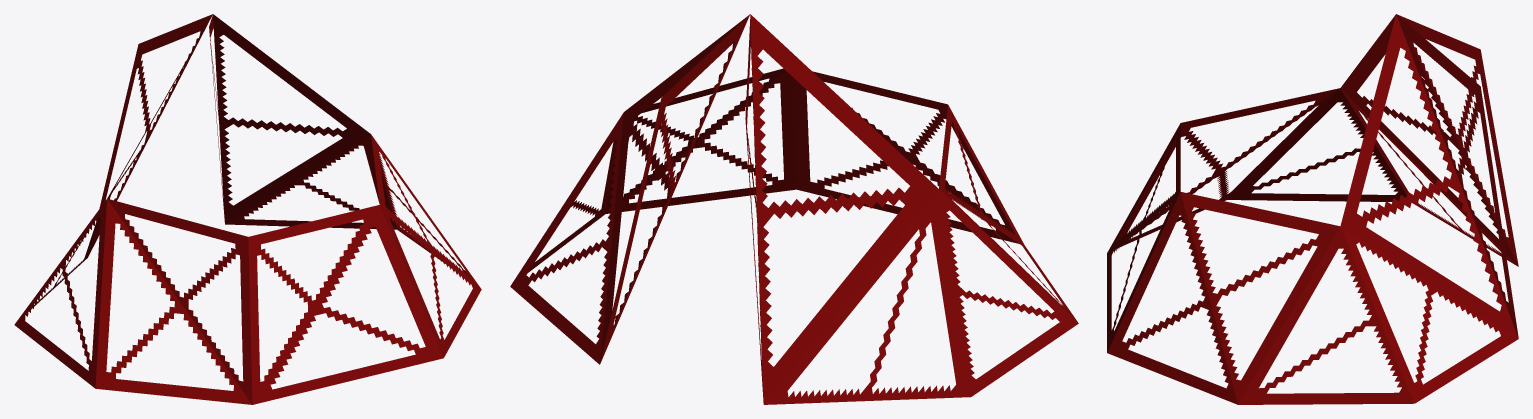
File: red_tower_0.obj
The picture shows the model from 3 angles, left to right: view 1: azimuth 30°, elevation 25°; view 2: azimuth 150°, elevation 25°; view 3: azimuth 270°, elevation 25°; orthographic projection. The views are drawn at different scales.
Parts seen in each view (by area): view 1: obj_tex_109, obj_tex_132, obj_tex_156; view 2: obj_tex_109, obj_tex_156, obj_tex_132; view 3: obj_tex_109, obj_tex_132, obj_tex_156.
Boxes of the visible parts, left/top/right/bottom form: obj_tex_109: left=14, top=134, right=481, bottom=404; obj_tex_132: left=209, top=14, right=370, bottom=224; obj_tex_156: left=88, top=14, right=212, bottom=256; obj_tex_109: left=510, top=68, right=1078, bottom=404; obj_tex_156: left=745, top=14, right=938, bottom=404; obj_tex_132: left=600, top=14, right=749, bottom=363; obj_tex_109: left=1107, top=88, right=1518, bottom=404; obj_tex_132: left=1340, top=14, right=1518, bottom=338; obj_tex_156: left=1341, top=14, right=1518, bottom=266.
Bounding box in the file's own units: 1.09 × 0.7146 × 0.9229.
Materials: 1 (1 with a texture image).
